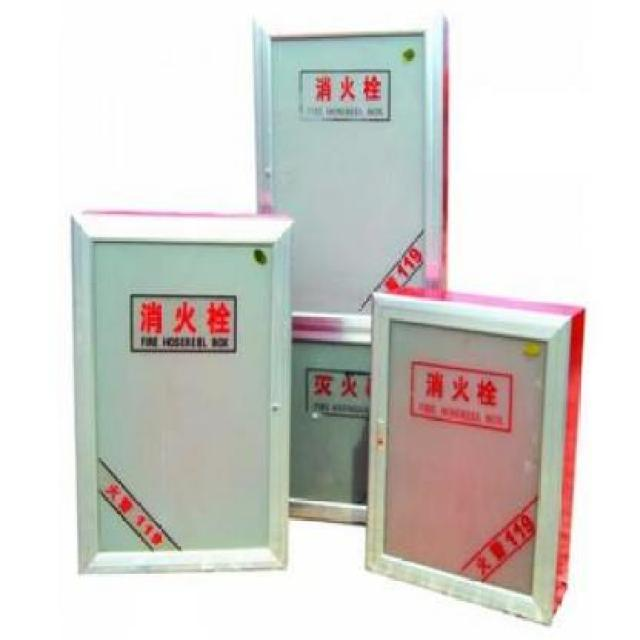firehydrant: (250, 9, 454, 534), (68, 202, 294, 580), (362, 280, 590, 628)
